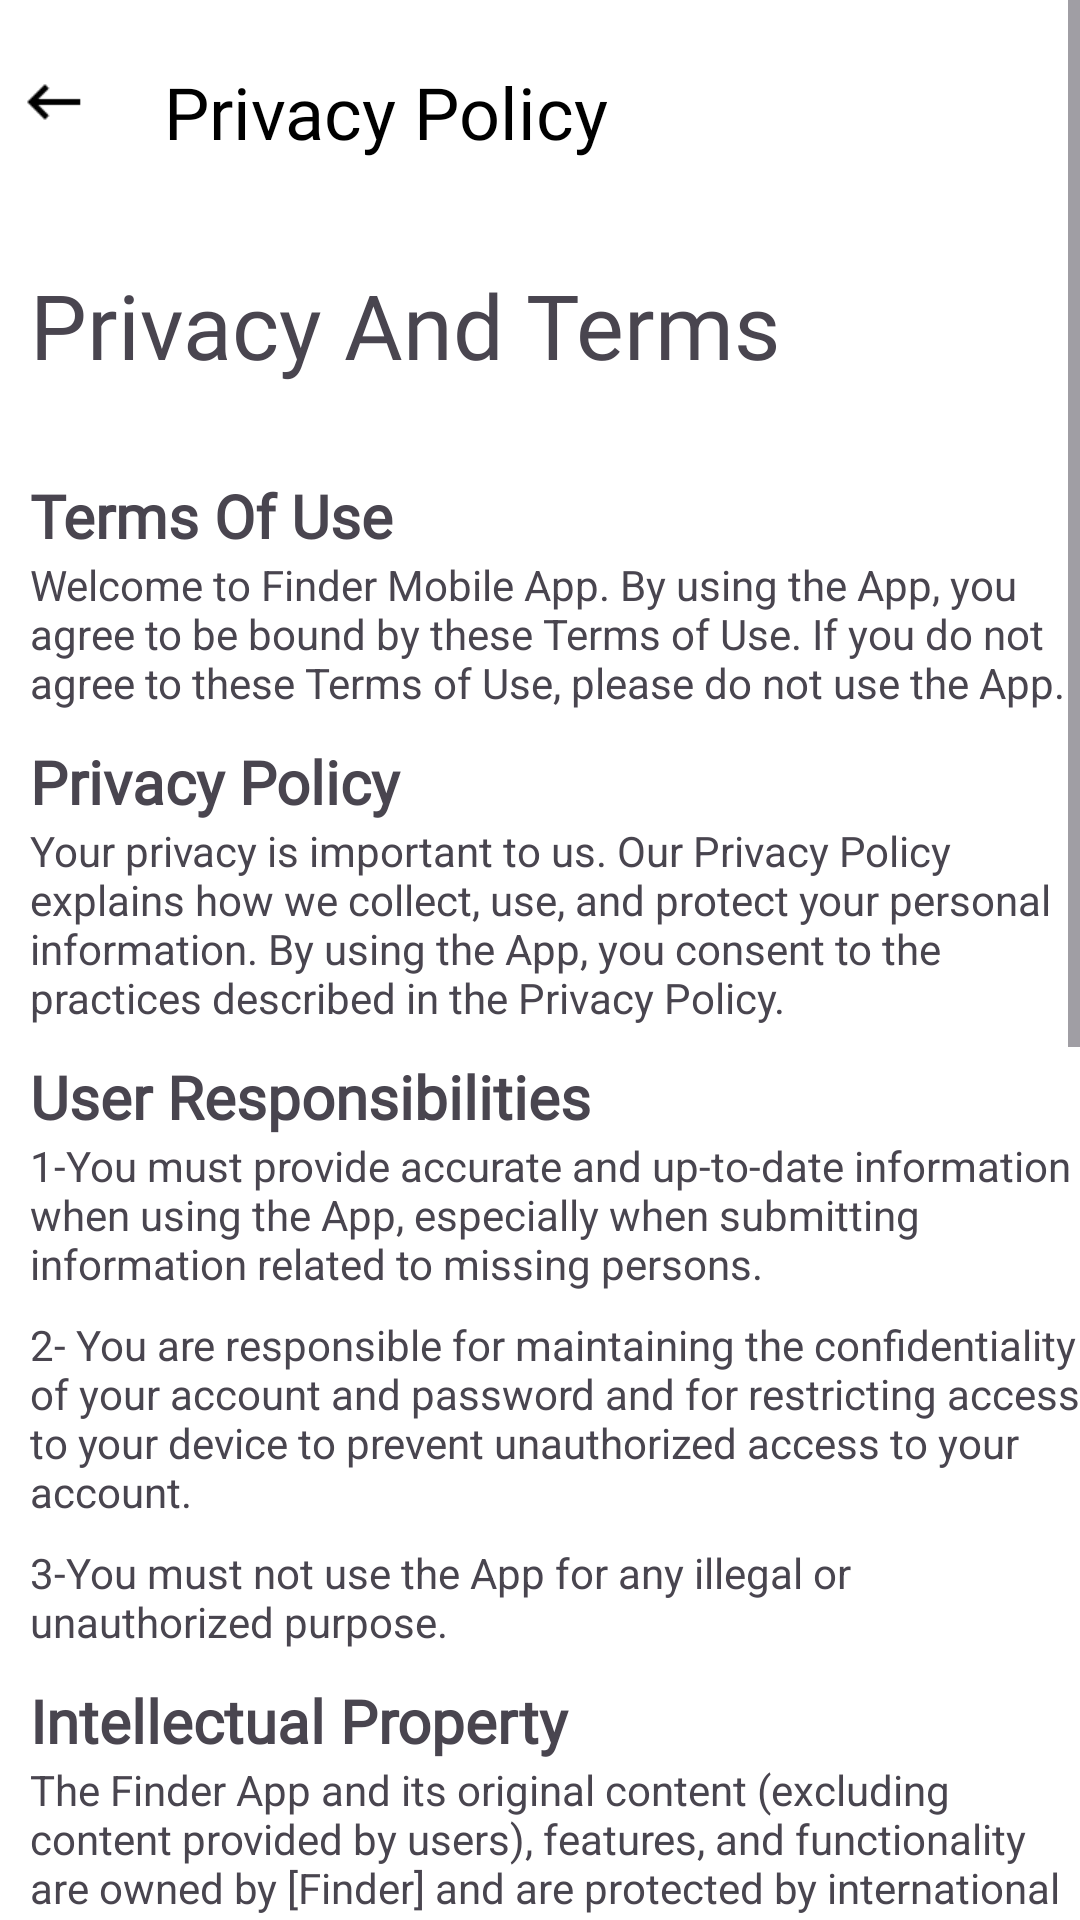

Icon bounding boxes for this 1080w x 1920h phone screenshot, format (x1, y1, x2, y2):
arrow: (27, 84, 81, 120)
